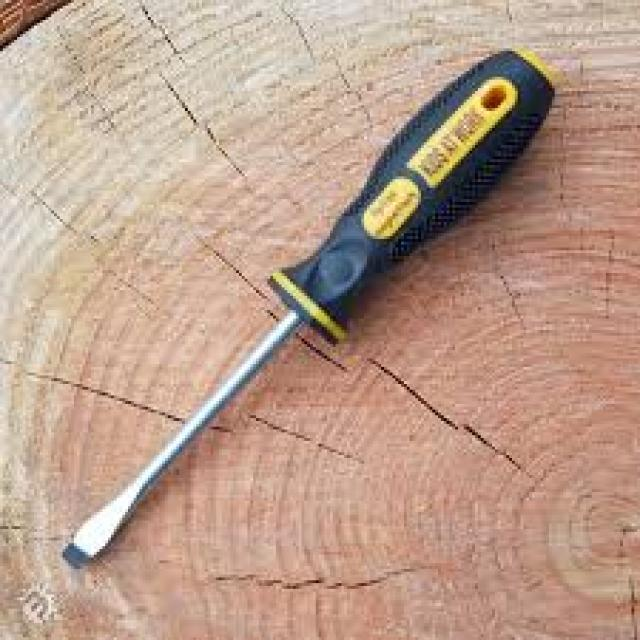screwdriver: (61, 44, 565, 573)
